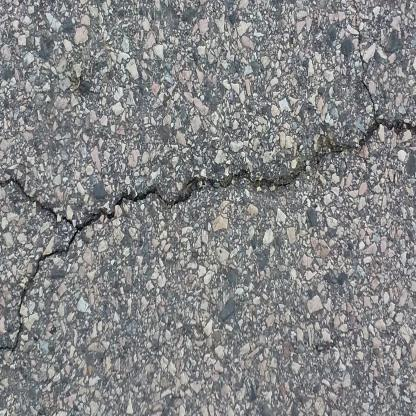Cracks: (0, 102, 416, 232)
